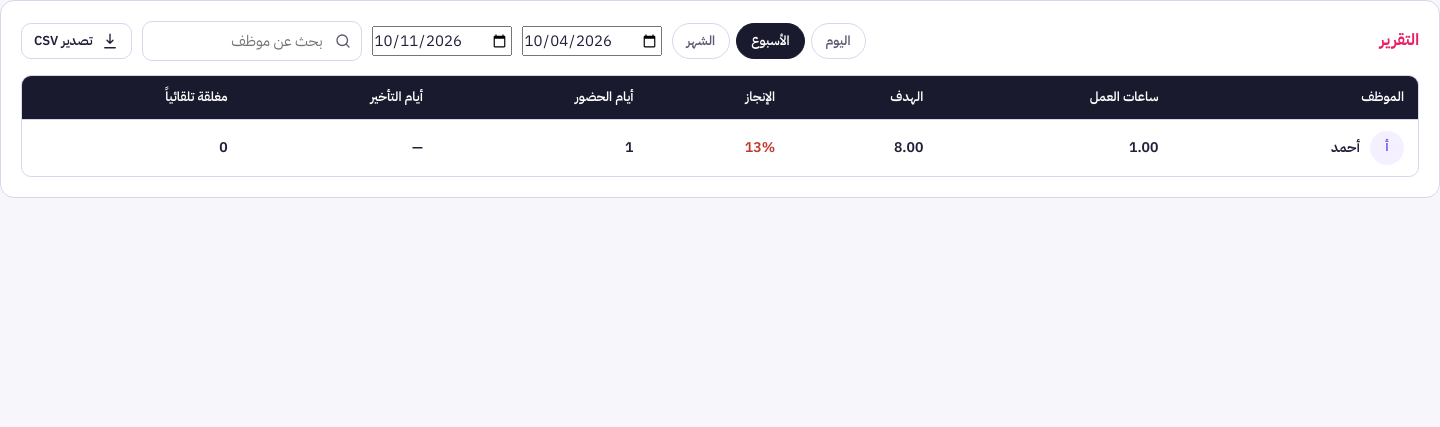
it: ReportPanel › leaves the lateness column empty when work_start is not configured
Click the text "أحمد": (1346, 148) [1331,137,1360,159]
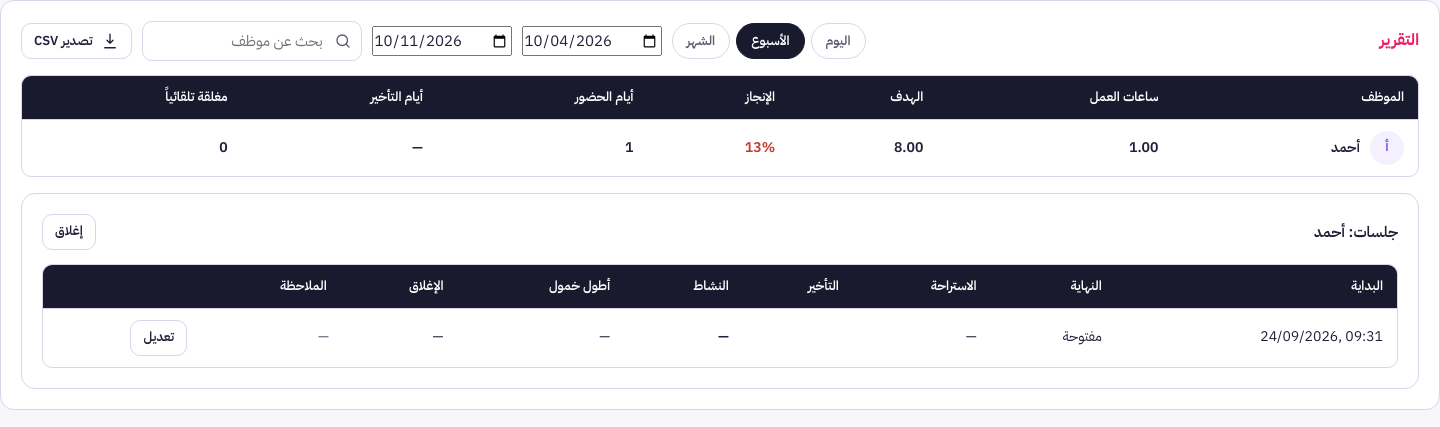
Expected: the text "مفتوحة" is shown, [991,308,1116,367]
